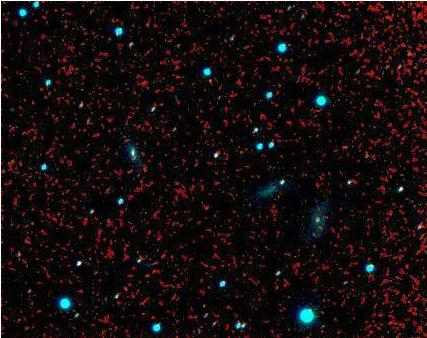star: (187, 291, 217, 321)
